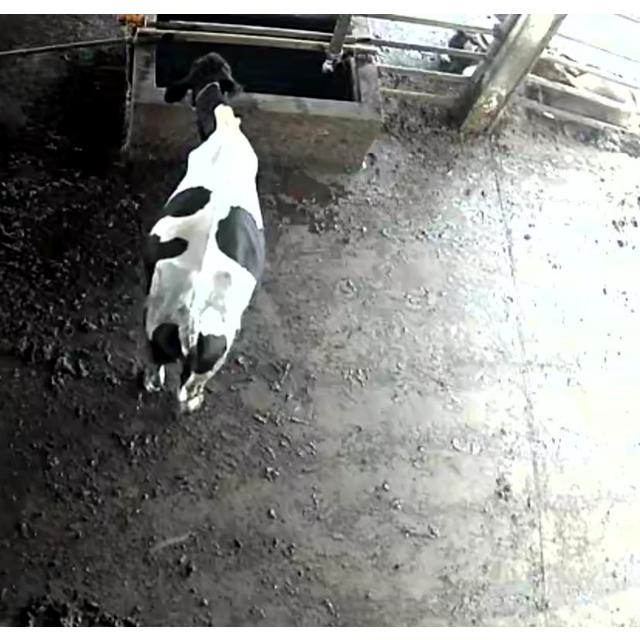drink: (153, 33, 300, 165)
